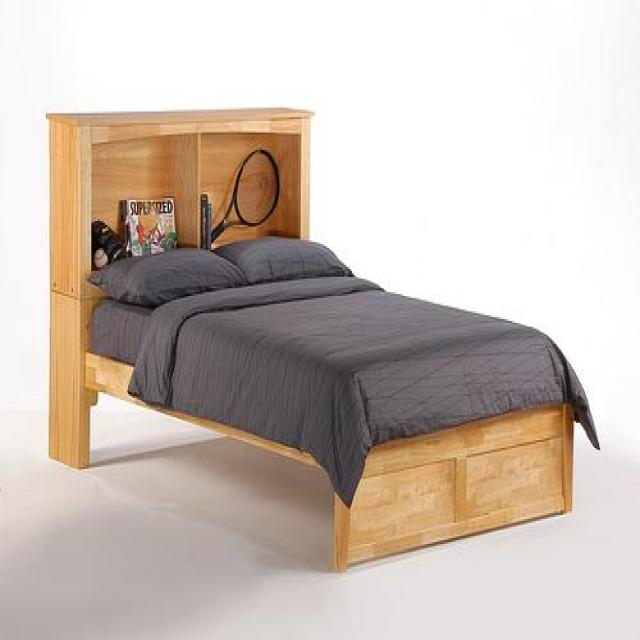bed: (42, 99, 602, 578)
